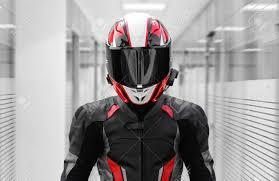Helmet: (105, 12, 178, 104)
